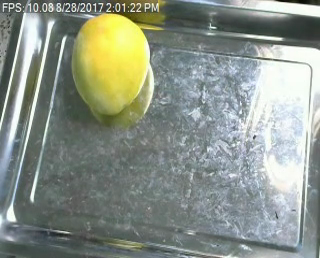Mango: (68, 12, 151, 114)
